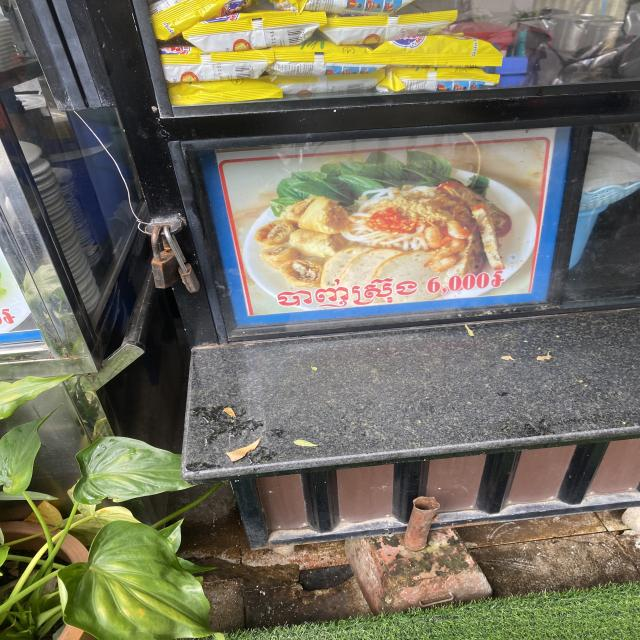Yolov11_80vkh: (271, 274, 424, 313)
